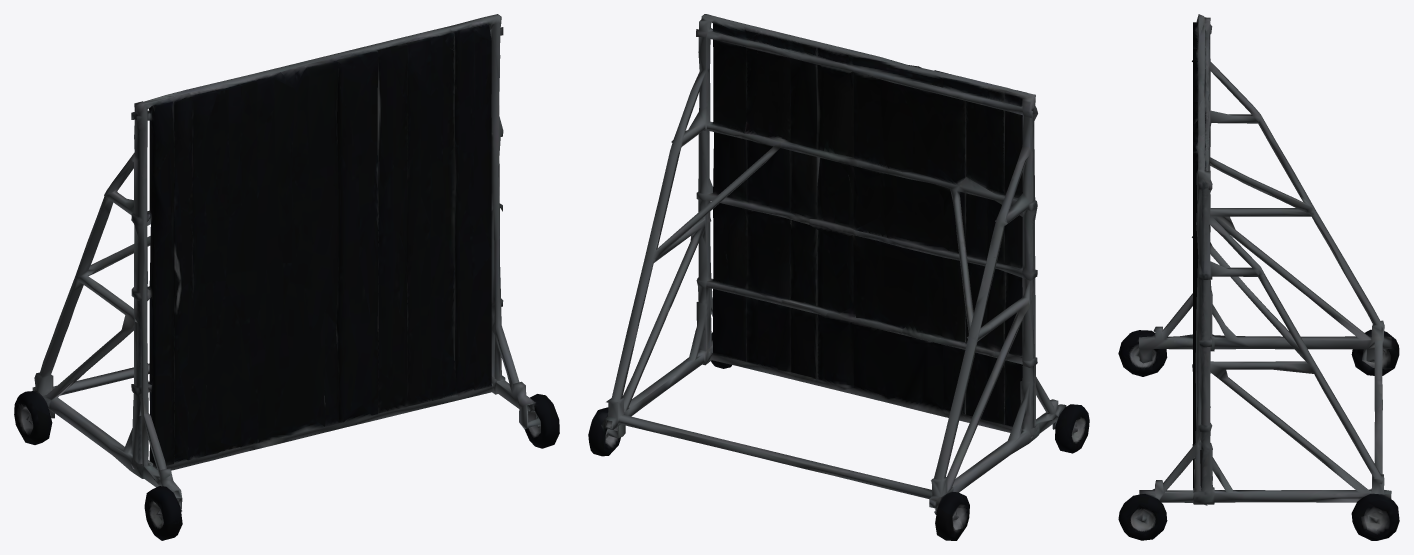
File: sightscreen.glb
3 views of the same model, side by side, from view 1: azimuth 30°, elevation 25°; view 2: azimuth 150°, elevation 25°; view 3: azimuth 270°, elevation 25° (orthographic). The views are drawn at different scales.
Parts seen in each view (by area): view 1: sightscreen; view 2: sightscreen; view 3: sightscreen.
Part boxes in pixels (left/top/right/bottom): sightscreen: left=14, top=14, right=559, bottom=540; sightscreen: left=588, top=14, right=1089, bottom=540; sightscreen: left=1118, top=14, right=1399, bottom=540.
Bounding box in the file's own units: 9.08 × 9 × 6.28.
1 material, 1 textured.
